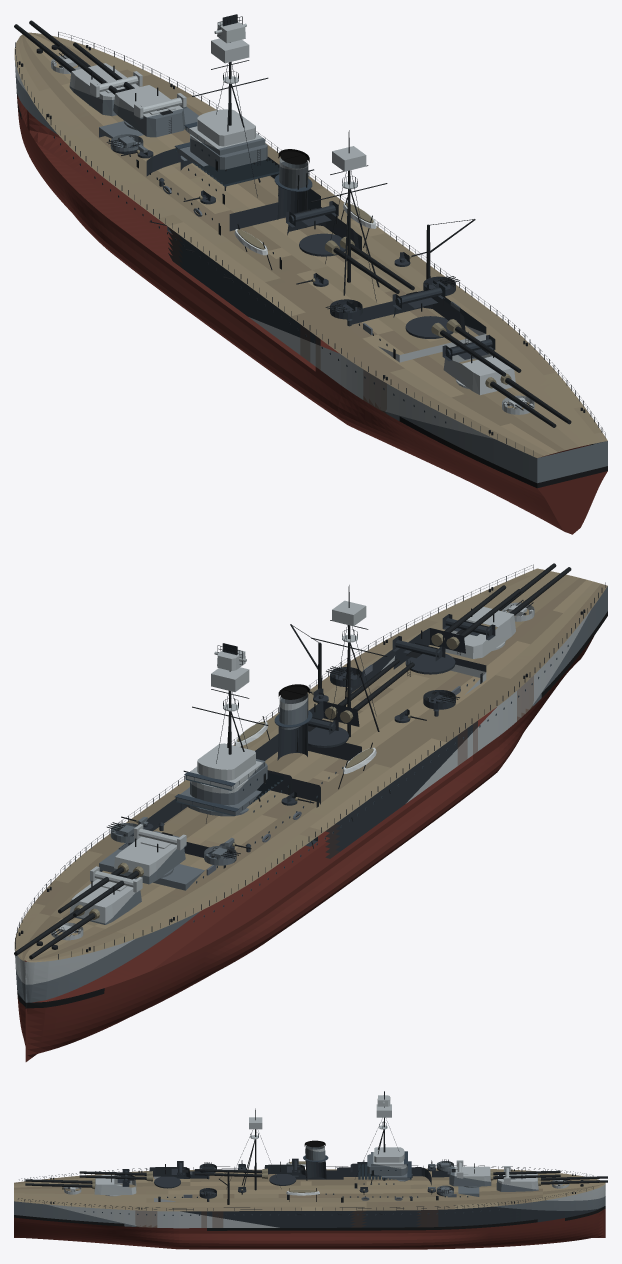
File: texas_m22.glb
The picture shows the model from 3 angles, top to bottom: view 1: azimuth 30°, elevation 25°; view 2: azimuth 150°, elevation 25°; view 3: azimuth 270°, elevation 25°; orthographic projection. The views are drawn at different scales.
Parts seen in each view (by area): view 1: Hull, Turret2, Turret5, Turret4, Turret3, Turret1; view 2: Hull, Turret2, Turret4, Turret1, Turret5, Turret3; view 3: Hull, Turret2, Turret5, Turret4, Turret3, Turret1.
Boxes of the visible parts, x1,y1,x2,y2 form: Hull: [14, 16, 607, 534]; Turret2: [58, 42, 186, 137]; Turret5: [442, 335, 571, 427]; Turret4: [392, 283, 521, 376]; Turret3: [286, 201, 414, 293]; Turret1: [14, 20, 142, 116]; Hull: [14, 564, 607, 1061]; Turret2: [58, 824, 186, 917]; Turret4: [392, 585, 521, 676]; Turret1: [14, 866, 142, 959]; Turret5: [442, 563, 571, 658]; Turret3: [308, 658, 414, 747]; Hull: [14, 1104, 605, 1249]; Turret2: [449, 1160, 560, 1187]; Turret5: [25, 1169, 136, 1196]; Turret4: [79, 1161, 190, 1188]; Turret3: [194, 1158, 305, 1185]; Turret1: [496, 1166, 607, 1191].
Bounding box in the file's own units: 32.79 × 47.18 × 175.
